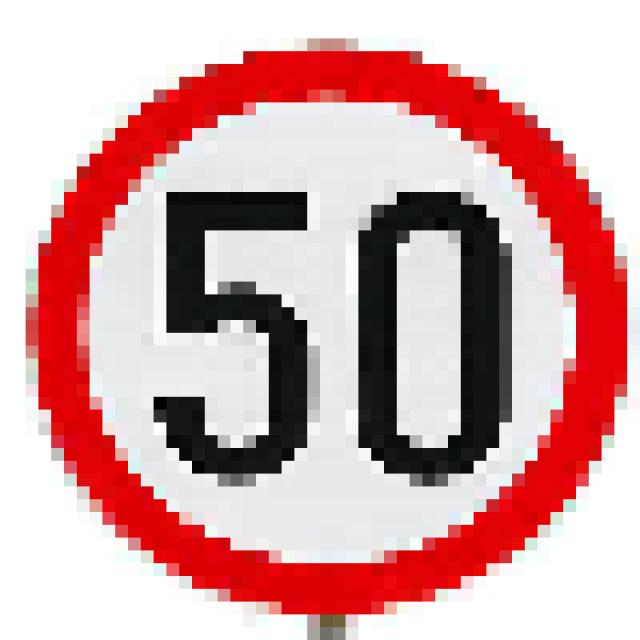Limite-50: (21, 32, 634, 625)
